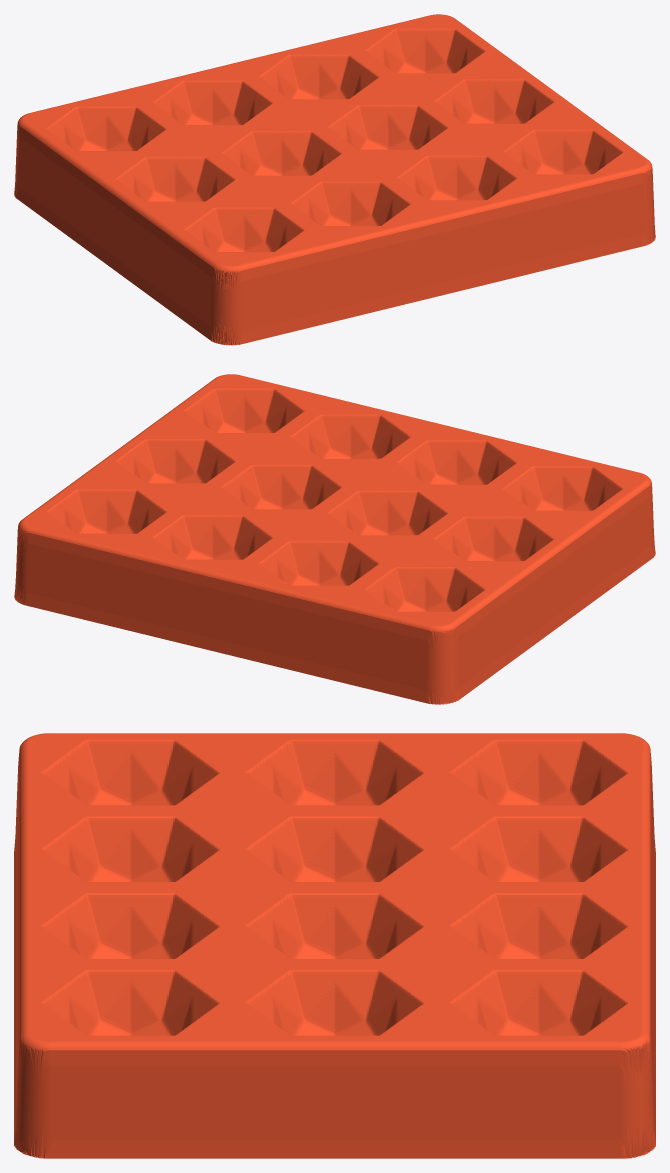
File: mold.glb
3 renders of one model, top to bottom at view 1: azimuth 30°, elevation 25°; view 2: azimuth 150°, elevation 25°; view 3: azimuth 270°, elevation 25°, orthographic. The views are drawn at different scales.
Visible parts, largest first — view 1: geometry_0; view 2: geometry_0; view 3: geometry_0.
Part boxes in pixels (<box>): geometry_0: <box>14,14,655,345</box>; geometry_0: <box>14,374,655,704</box>; geometry_0: <box>14,733,655,1158</box>.
Bounding box in the file's own units: 0.1904 × 0.0309 × 0.1617.
